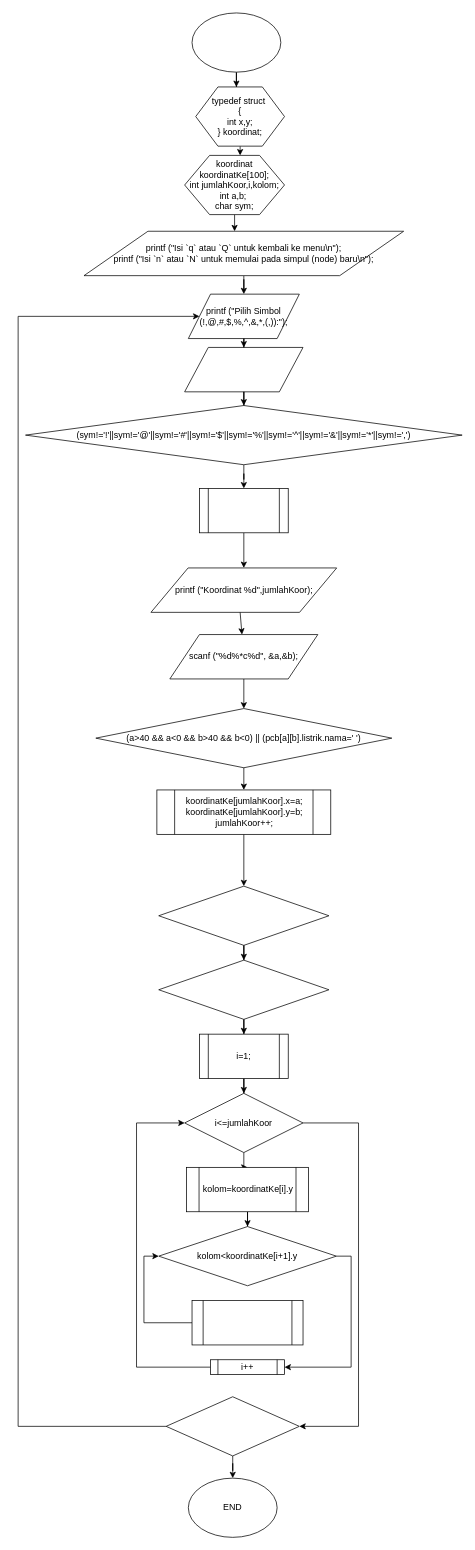
Some shapes in this 475 by 1550 pixel diagram are drawn without their labels. The shapes that lost their labels are listed below. From the top down, each one's centre as x and y in pixels, then its label:
point (236, 42): routingManual.c
point (243, 369): scanf ("%c", &sym);
point (243, 510): jumlahKoor=1;
point (243, 915): ((a!='n'||a!='N'||b!='n'||b!='N'))
point (243, 989): (a!='n'||a!='N'||b!='n'||b!='N')
point (247, 1322): pcb[koordinatKe[i].x][kolom].simbol=sym; kolom++;
point (232, 1426): (a!='q'||a!='Q')
